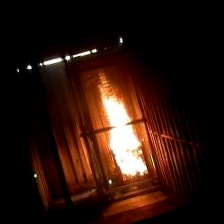fire: (86, 63, 159, 181)
